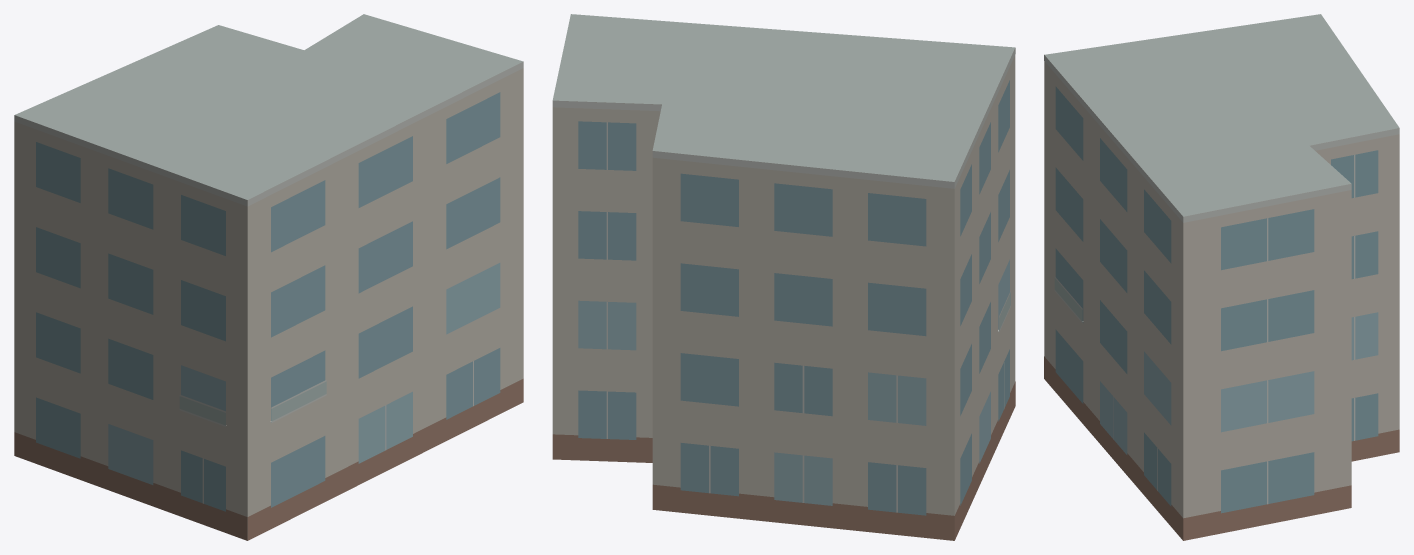
Rendered from survey-upis-32700172.glb.
The picture shows the model from 3 angles, left to right: view 1: azimuth 30°, elevation 25°; view 2: azimuth 150°, elevation 25°; view 3: azimuth 270°, elevation 25°; orthographic projection. The views are drawn at different scales.
Visible parts, largest first — view 1: survey-upis-32700172.tmp; view 2: survey-upis-32700172.tmp; view 3: survey-upis-32700172.tmp.
Part boxes in pixels (x1=…): survey-upis-32700172.tmp: x1=14, y1=14, x2=523, y2=540; survey-upis-32700172.tmp: x1=552, y1=14, x2=1015, y2=540; survey-upis-32700172.tmp: x1=1044, y1=14, x2=1399, y2=540.
Bounding box in the file's own units: 17.18 × 12.8 × 12.73.
